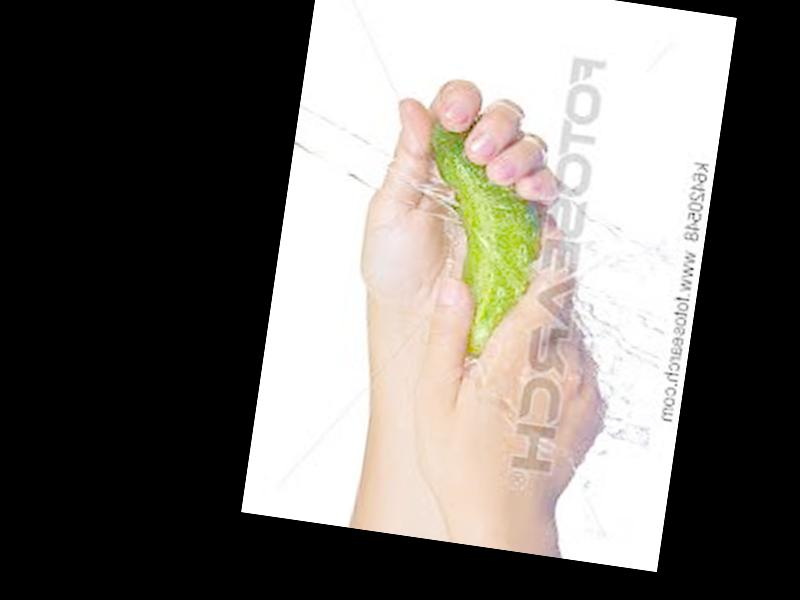Cucumber: (399, 118, 560, 371)
